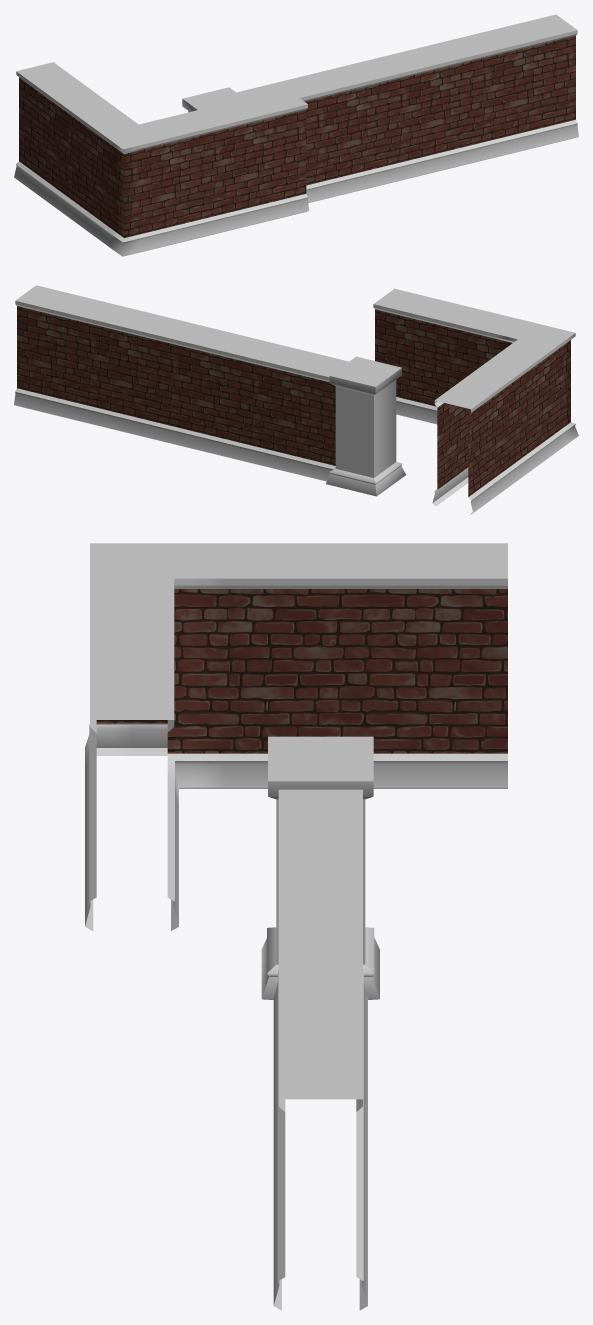
The model's file is CemWalls.FBX.
3 views of the same model, one above another, from view 1: azimuth 30°, elevation 25°; view 2: azimuth 150°, elevation 25°; view 3: azimuth 270°, elevation 25° (orthographic). The views are drawn at different scales.
Visible parts, largest first — view 1: wall_corner, wall, pillar; view 2: wall, wall_corner, pillar; view 3: wall_corner, wall, pillar.
Boxes of the visible parts, x1=… form: wall_corner: x1=14, y1=62, x2=309, y2=256; wall: x1=236, y1=14, x2=578, y2=202; pillar: x1=182, y1=87, x2=244, y2=112; wall: x1=14, y1=285, x2=348, y2=481; wall_corner: x1=373, y1=288, x2=578, y2=514; pillar: x1=326, y1=356, x2=405, y2=496; wall_corner: x1=85, y1=543, x2=507, y2=930; wall: x1=273, y1=789, x2=367, y2=1310; pillar: x1=261, y1=736, x2=379, y2=999.
Size of the model in its own units: 131 by 36.48 by 48.59.
